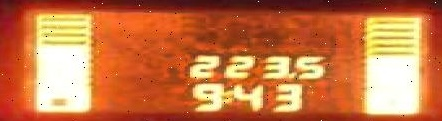-: (286, 70, 294, 77)
2: (185, 53, 219, 78), (221, 53, 252, 78)
3: (271, 82, 302, 113), (260, 54, 286, 78)
4: (231, 83, 265, 112)
5: (291, 54, 325, 78)
9: (187, 80, 218, 110)
X: (221, 88, 229, 103)
